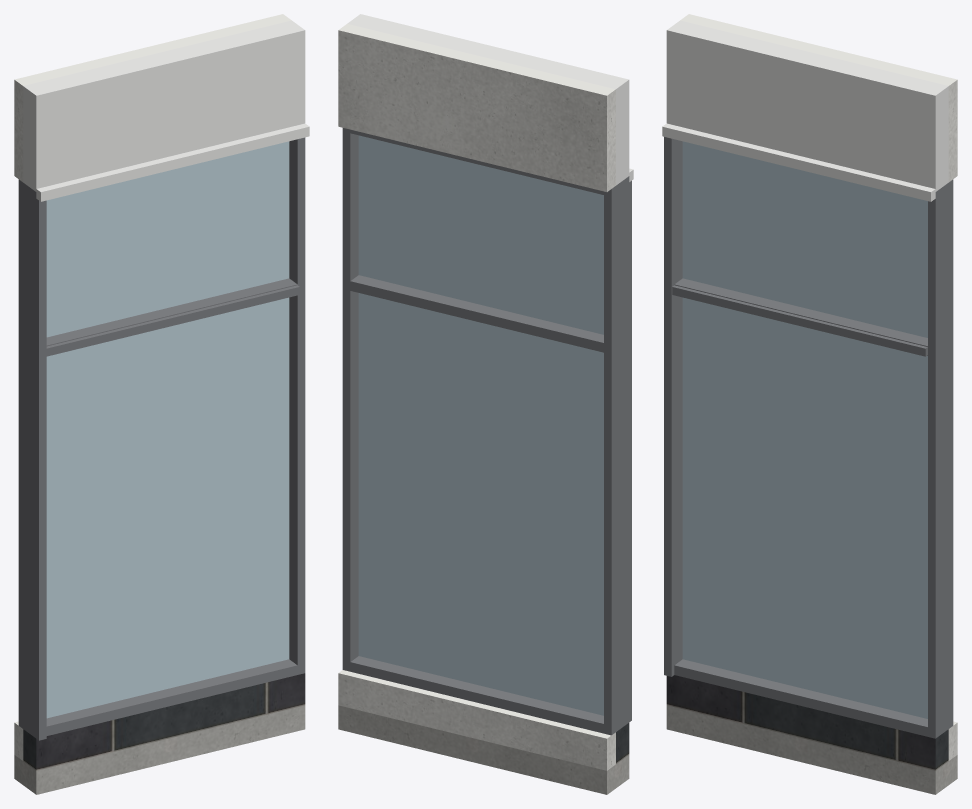
The model's file is s_win_r.glb.
3 views of the same model, side by side, from view 1: azimuth 30°, elevation 25°; view 2: azimuth 150°, elevation 25°; view 3: azimuth 330°, elevation 25° (orthographic).
Parts seen in each view (by area): view 1: s_win_r_glass, s_win_r_mull, s_win_r_panel_w, s_win_r_block_d, s_win_r_concrete, s_win_r_plaster; view 2: s_win_r_glass, s_win_r_plaster, s_win_r_mull, s_win_r_concrete, s_win_r_panel_w; view 3: s_win_r_glass, s_win_r_panel_w, s_win_r_mull, s_win_r_block_d, s_win_r_concrete, s_win_r_plaster.
Part boxes in pixels (bbox=[...]): s_win_r_glass: bbox=[46, 141, 289, 718]; s_win_r_mull: bbox=[18, 137, 305, 740]; s_win_r_panel_w: bbox=[23, 20, 309, 201]; s_win_r_block_d: bbox=[23, 673, 305, 770]; s_win_r_concrete: bbox=[14, 705, 305, 794]; s_win_r_plaster: bbox=[14, 14, 291, 760]; s_win_r_glass: bbox=[358, 135, 603, 715]; s_win_r_plaster: bbox=[338, 23, 615, 770]; s_win_r_mull: bbox=[342, 128, 631, 735]; s_win_r_concrete: bbox=[338, 705, 629, 794]; s_win_r_panel_w: bbox=[347, 14, 633, 185]; s_win_r_glass: bbox=[682, 141, 927, 718]; s_win_r_panel_w: bbox=[662, 20, 948, 201]; s_win_r_mull: bbox=[664, 137, 953, 738]; s_win_r_block_d: bbox=[666, 675, 948, 770]; s_win_r_concrete: bbox=[666, 705, 957, 794]; s_win_r_plaster: bbox=[680, 14, 957, 760].
Bounding box in the file's own units: 1.75 × 4.35 × 0.3.
6 materials, 3 textured.
